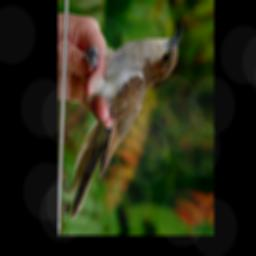Cuckoo: (69, 15, 184, 228)
